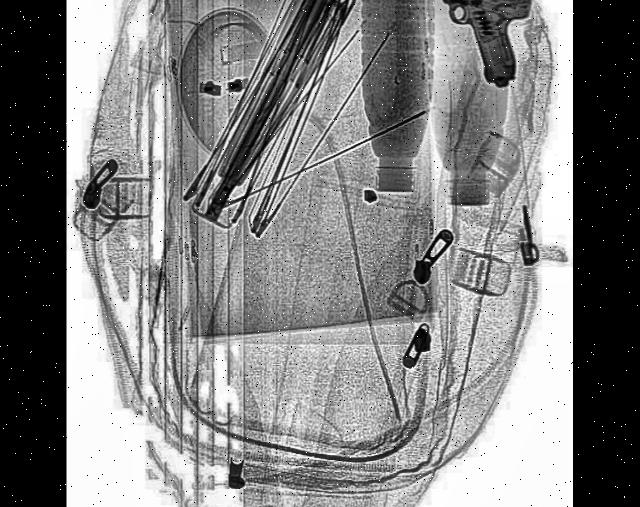Gun: (388, 0, 534, 89)
